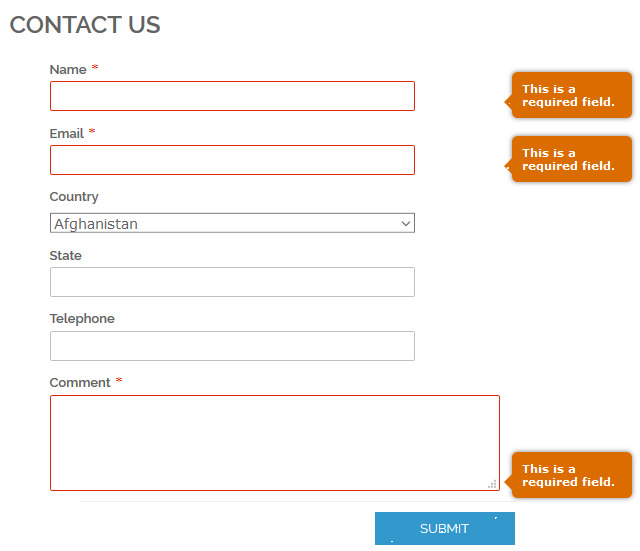error_field: (48, 395, 502, 492), (49, 143, 416, 176), (48, 80, 415, 112)
error_message: (518, 82, 616, 108), (521, 463, 617, 488), (519, 148, 616, 172)
